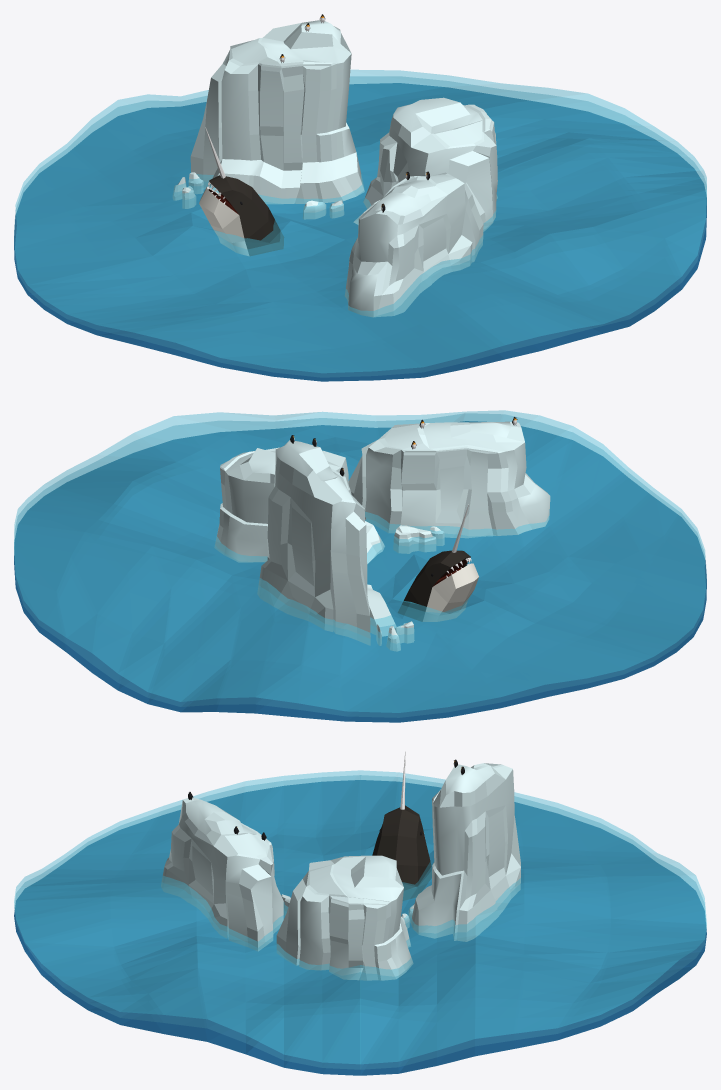
Rendered from Ice.fbx.
3 renders of one model, top to bottom at view 1: azimuth 30°, elevation 25°; view 2: azimuth 150°, elevation 25°; view 3: azimuth 270°, elevation 25°, orthographic. The views are drawn at different scales.
Parts seen in each view (by area): view 1: Sea_LayerTop, Sea_LayerMid, Sea_LayerLow, IcebergL, IcebergR, IcebergMain_Ice_0, Narwhal_Body; view 2: Sea_LayerTop, Sea_LayerMid, Sea_LayerLow, IcebergR, IcebergL, IcebergMain_Ice_0, Narwhal_Body, IceChunk01; view 3: Sea_LayerTop, Sea_LayerLow, Sea_LayerMid, IcebergL, IcebergMain_Ice_0, IcebergR, Narwhal_Body.
Boxes of the visible parts, x1,y1,x2,y2 form: Sea_LayerTop: [15, 70, 706, 372]; Sea_LayerMid: [14, 76, 706, 377]; Sea_LayerLow: [14, 83, 706, 381]; IcebergL: [190, 20, 364, 204]; IcebergR: [345, 172, 483, 317]; IcebergMain_Ice_0: [353, 97, 497, 231]; Narwhal_Body: [199, 175, 283, 255]; Sea_LayerTop: [14, 410, 705, 712]; Sea_LayerMid: [14, 413, 706, 717]; Sea_LayerLow: [14, 421, 706, 722]; IcebergR: [349, 421, 550, 537]; IcebergL: [257, 440, 396, 645]; IcebergMain_Ice_0: [214, 447, 384, 563]; Narwhal_Body: [398, 550, 478, 621]; IceChunk01: [393, 525, 436, 553]; Sea_LayerTop: [14, 770, 706, 1064]; Sea_LayerLow: [14, 780, 706, 1075]; Sea_LayerMid: [14, 775, 706, 1069]; IcebergL: [411, 763, 520, 941]; IcebergMain_Ice_0: [276, 855, 413, 980]; IcebergR: [161, 797, 283, 951]; Narwhal_Body: [372, 805, 431, 900].
Size of the model in its own units: 23285 by 6590 by 22912.
